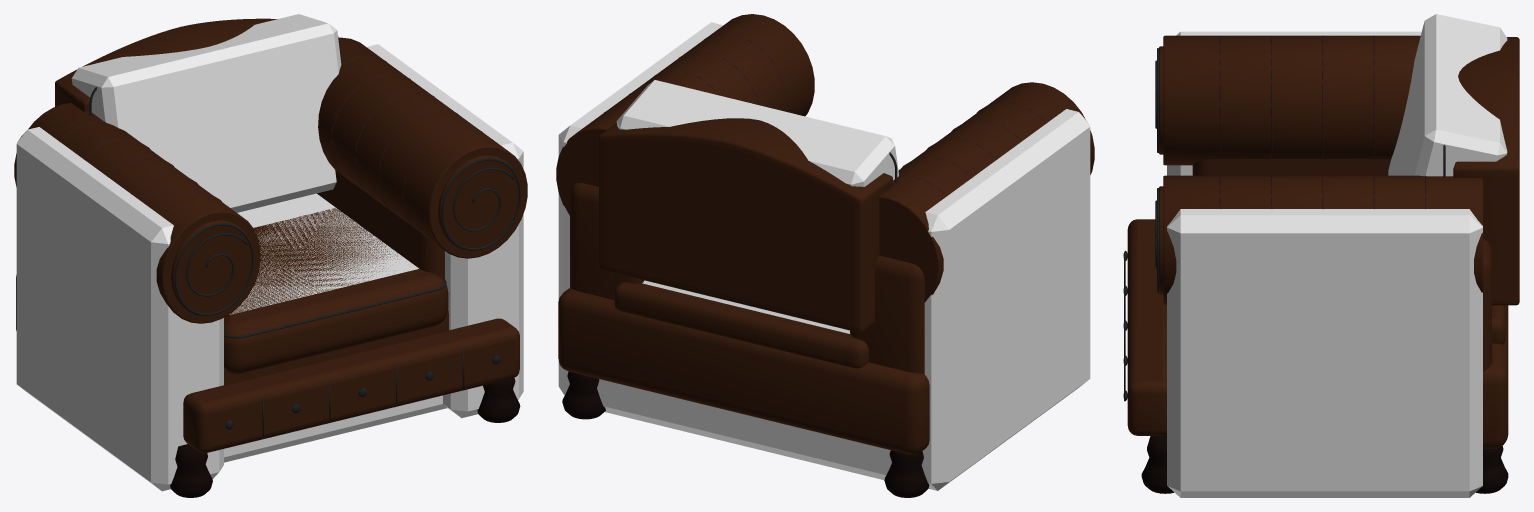
The model's file is luxury.glb.
3 views of the same model, side by side, from view 1: azimuth 30°, elevation 25°; view 2: azimuth 150°, elevation 25°; view 3: azimuth 270°, elevation 25° (orthographic). The views are drawn at different scales.
Parts seen in each view (by area): view 1: COL_Arm_Left, COL_Backrest, SeatCushion, FrontApron_LOD0, ArmRoll_Right_LOD0, COL_SeatBase, ArmRoll_Left_LOD0, COL_Arm_Right, ArmScrollCap_Left_LOD0, ArmScrollCap_Right_LOD0, ArmSidePanel_Right_LOD0, TuftedBackrest (+6 smaller); view 2: COL_Arm_Left, TuftedBackrest, UpholsteredBase_LOD0, ArmRoll_Left_LOD0, ArmRoll_Right_LOD0, COL_SeatBase, COL_Backrest, SeatDeck_LOD0, ArmSidePanel_Left_LOD0, ArmSidePanel_Right_LOD0, COL_Arm_Right, Foot_RL_LOD0 (+1 smaller); view 3: COL_Arm_Right, ArmRoll_Left_LOD0, COL_Backrest, ArmRoll_Right_LOD0, TuftedBackrest, FrontApron_LOD0, ArmSidePanel_Left_LOD0, UpholsteredBase_LOD0, COL_Arm_Left, RolledArmTrim_Left, Foot_FR_LOD0, ArmSidePanel_Right_LOD0 (+5 smaller).
Part boxes in pixels (bbox=[...]): COL_Arm_Left: bbox=[16, 127, 223, 491]; COL_Backrest: bbox=[71, 14, 341, 212]; SeatCushion: bbox=[224, 208, 448, 374]; FrontApron_LOD0: bbox=[183, 318, 519, 453]; ArmRoll_Right_LOD0: bbox=[318, 37, 527, 258]; COL_SeatBase: bbox=[224, 193, 447, 462]; ArmRoll_Left_LOD0: bbox=[14, 103, 260, 323]; COL_Arm_Right: bbox=[366, 44, 523, 418]; ArmScrollCap_Left_LOD0: bbox=[171, 220, 253, 315]; ArmScrollCap_Right_LOD0: bbox=[438, 155, 520, 250]; ArmSidePanel_Right_LOD0: bbox=[317, 170, 444, 278]; TuftedBackrest: bbox=[55, 18, 277, 112]; COL_Arm_Left: bbox=[921, 109, 1090, 490]; TuftedBackrest: bbox=[599, 118, 892, 332]; UpholsteredBase_LOD0: bbox=[558, 288, 929, 454]; ArmRoll_Left_LOD0: bbox=[879, 82, 1094, 302]; ArmRoll_Right_LOD0: bbox=[556, 14, 814, 215]; COL_SeatBase: bbox=[597, 280, 891, 479]; COL_Backrest: bbox=[616, 80, 898, 186]; SeatDeck_LOD0: bbox=[614, 282, 868, 368]; ArmSidePanel_Left_LOD0: bbox=[850, 255, 924, 374]; ArmSidePanel_Right_LOD0: bbox=[570, 183, 644, 299]; COL_Arm_Right: bbox=[558, 22, 723, 395]; Foot_RL_LOD0: bbox=[884, 450, 929, 497]; COL_Arm_Right: bbox=[1167, 209, 1482, 497]; ArmRoll_Left_LOD0: bbox=[1163, 35, 1420, 165]; COL_Backrest: bbox=[1388, 14, 1507, 176]; ArmRoll_Right_LOD0: bbox=[1163, 175, 1483, 305]; TuftedBackrest: bbox=[1453, 37, 1519, 305]; FrontApron_LOD0: bbox=[1127, 219, 1166, 435]; ArmSidePanel_Left_LOD0: bbox=[1192, 159, 1391, 175]; UpholsteredBase_LOD0: bbox=[1483, 305, 1508, 448]; COL_Arm_Left: bbox=[1167, 31, 1421, 175]; RolledArmTrim_Left: bbox=[1155, 35, 1375, 159]; Foot_FR_LOD0: bbox=[1141, 434, 1173, 493]; ArmSidePanel_Right_LOD0: bbox=[1483, 239, 1491, 371].
Size of what is drawn, in the model's own units: 1.2 by 0.9581 by 1.03.
4 materials, 1 textured.
